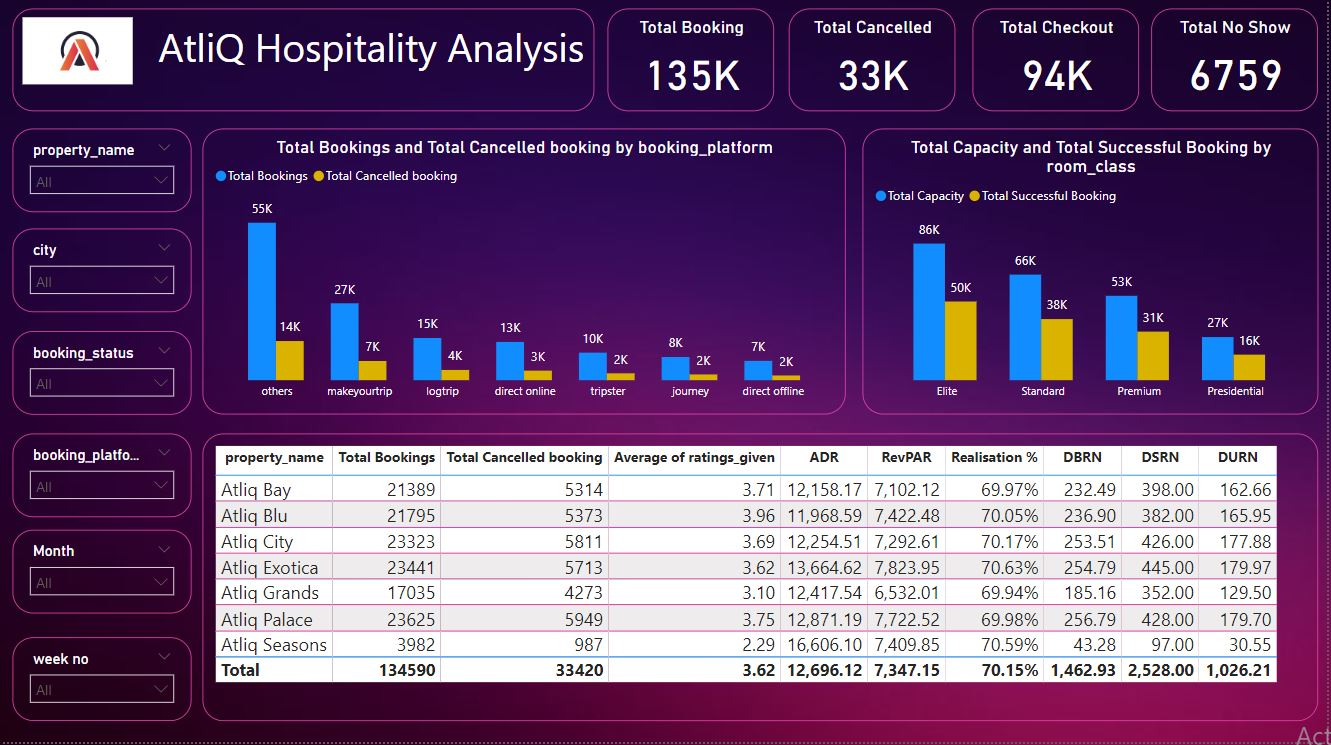

The dashboard page shown, as its layout file describes it:
{"tool":"powerbi","page":{"name":"Page 2","canvas":[1280,720],"ordinal":1},"visuals":[{"type":"textbox","box":[11.5,11.5,561.9,99.2],"z":0},{"type":"image","box":[21.6,20.1,106.3,64.7],"z":1000},{"type":"slicer","fields":{"Values":["dim_hotels.property_name"]},"box":[11.5,127.9,172.5,81],"z":2000,"group":"g1"},{"type":"group","id":"g1","title":"Group 1","box":[11.5,127.9,172.5,572],"z":2000},{"type":"card","title":"Total Booking","fields":{"Values":["fact_bookings.Total Bookings"]},"box":[586.3,11.5,161,99.2],"z":3000},{"type":"slicer","fields":{"Values":["dim_hotels.city"]},"box":[11.5,224.7,172.5,81],"z":3000,"group":"g1"},{"type":"card","title":"Total Checkout","fields":{"Values":["fact_bookings.Total Checked out"]},"box":[938.4,11.5,161,99.2],"z":4000},{"type":"slicer","fields":{"Values":["fact_bookings.booking_status"]},"box":[11.5,323.3,172.5,81],"z":4000,"group":"g1"},{"type":"card","title":"Total No Show","fields":{"Values":["fact_bookings.Total no show bookings"]},"box":[1110.9,11.5,161,99.2],"z":5000},{"type":"slicer","fields":{"Values":["fact_bookings.booking_platform"]},"box":[11.5,421.8,172.5,81],"z":5000,"group":"g1"},{"type":"lineClusteredColumnComboChart","fields":{"Category":["fact_bookings.booking_platform"],"Y":["fact_bookings.Total Bookings","fact_bookings.Total Cancelled booking"]},"box":[195.4,127.9,620.8,275.9],"z":6000},{"type":"slicer","fields":{"Values":["dim_date.date.Variation.Date Hierarchy.Month"]},"box":[11.5,515.1,172.5,81],"z":6000,"group":"g1"},{"type":"slicer","fields":{"Values":["dim_date.week no"]},"box":[11.5,618.9,172.5,81],"z":7000,"group":"g1"},{"type":"lineClusteredColumnComboChart","fields":{"Category":["dim_rooms.room_class"],"Y":["fact_aggregated_bookings.Total Capacity","fact_aggregated_bookings.Total Successful Booking"]},"box":[832.1,127.9,439.8,275.9],"z":9000},{"type":"tableEx","fields":{"Values":["dim_hotels.property_name","fact_bookings.Total Bookings","fact_bookings.Total Cancelled booking","Avg(fact_bookings.ratings_given)","fact_bookings.ADR","fact_bookings.RevPAR","fact_bookings.Realisation %","fact_bookings.DBRN","fact_aggregated_bookings.DSRN","fact_bookings.DURN"]},"box":[195.4,422.5,1076.4,277.4],"z":10000},{"type":"card","title":"Total Cancelled","fields":{"Values":["fact_bookings.Total Cancelled booking"]},"box":[761.7,11.5,161,99.2],"z":11000}]}

Visuals, with their boxes in screenshot pixels (x1, y1, x2, y2), scaled from the page's 1280x720 canvas onto the 1331x745 screenshot:
textbox: rect(12, 12, 596, 115)
image: rect(22, 21, 133, 88)
slicer - dim_hotels.property_name: rect(12, 132, 191, 216)
"Group 1" group: rect(12, 132, 191, 724)
"Total Booking" card: rect(610, 12, 777, 115)
slicer - dim_hotels.city: rect(12, 233, 191, 316)
"Total Checkout" card: rect(976, 12, 1143, 115)
slicer - fact_bookings.booking_status: rect(12, 335, 191, 418)
"Total No Show" card: rect(1155, 12, 1323, 115)
slicer - fact_bookings.booking_platform: rect(12, 436, 191, 520)
lineClusteredColumnComboChart - fact_bookings.booking_platform x fact_bookings.Total Bookings: rect(203, 132, 849, 418)
slicer - dim_date.date.Variation.Date Hierarchy.Month: rect(12, 533, 191, 617)
slicer - dim_date.week no: rect(12, 640, 191, 724)
lineClusteredColumnComboChart - dim_rooms.room_class x fact_aggregated_bookings.Total Capacity: rect(865, 132, 1323, 418)
tableEx - dim_hotels.property_name x fact_bookings.Total Bookings: rect(203, 437, 1322, 724)
"Total Cancelled" card: rect(792, 12, 959, 115)
